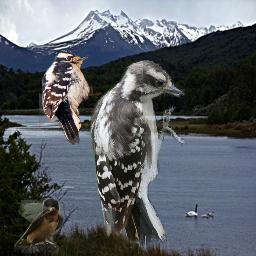Swallow: (14, 198, 63, 254)
Woodpecker: (90, 60, 187, 249), (39, 50, 103, 145)
